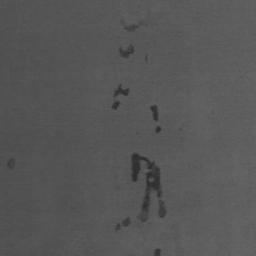Iron scale compression: (130, 153, 166, 223), (114, 217, 131, 232), (119, 18, 135, 32), (119, 45, 134, 59), (114, 84, 130, 97), (150, 106, 159, 122), (6, 158, 16, 171), (112, 101, 120, 110)
